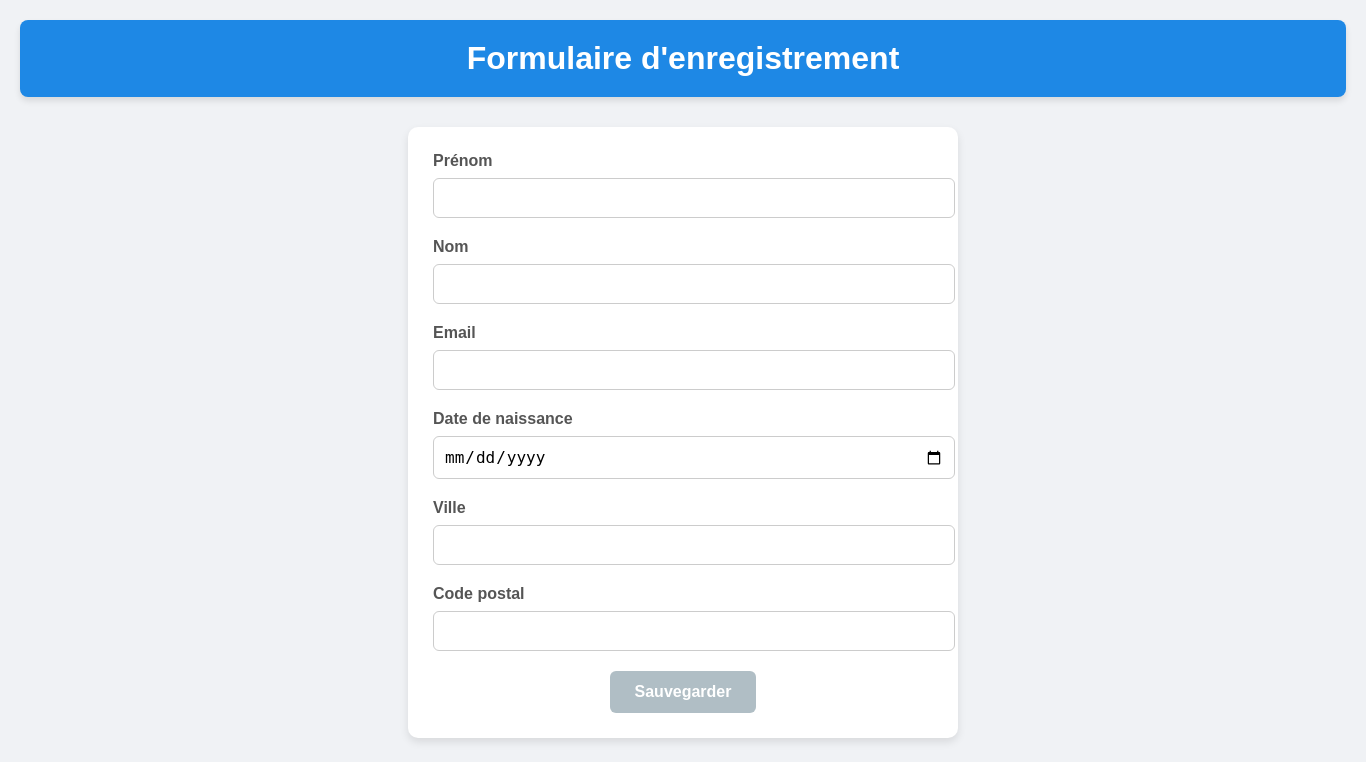
it: Error tests › Validation des champs › affiche une erreur quand le nom est invalide
In the field with test id "input-lastName": [694, 284] box top-left (433, 264), bottom-right (955, 304), type "123"
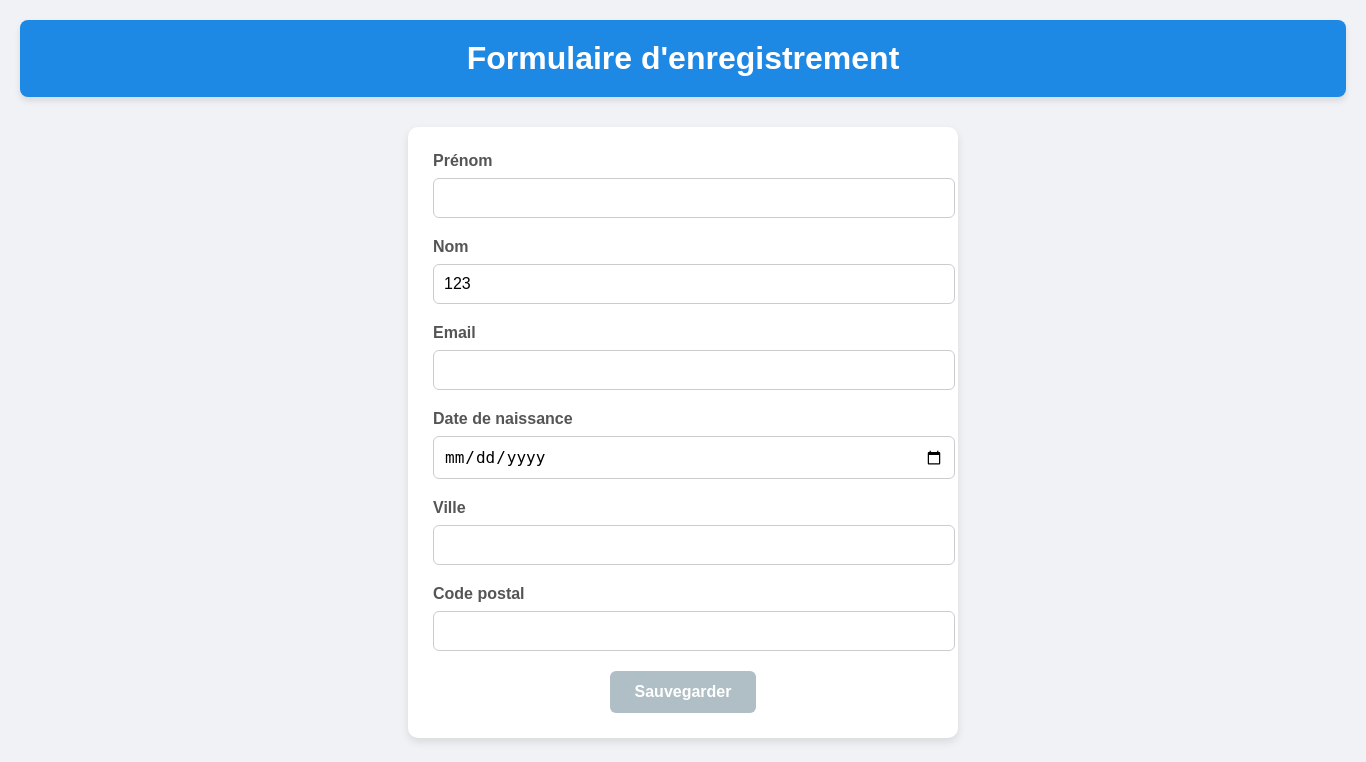
Submit the form with test id "registration-form", box top-left (408, 127), bottom-right (958, 738)
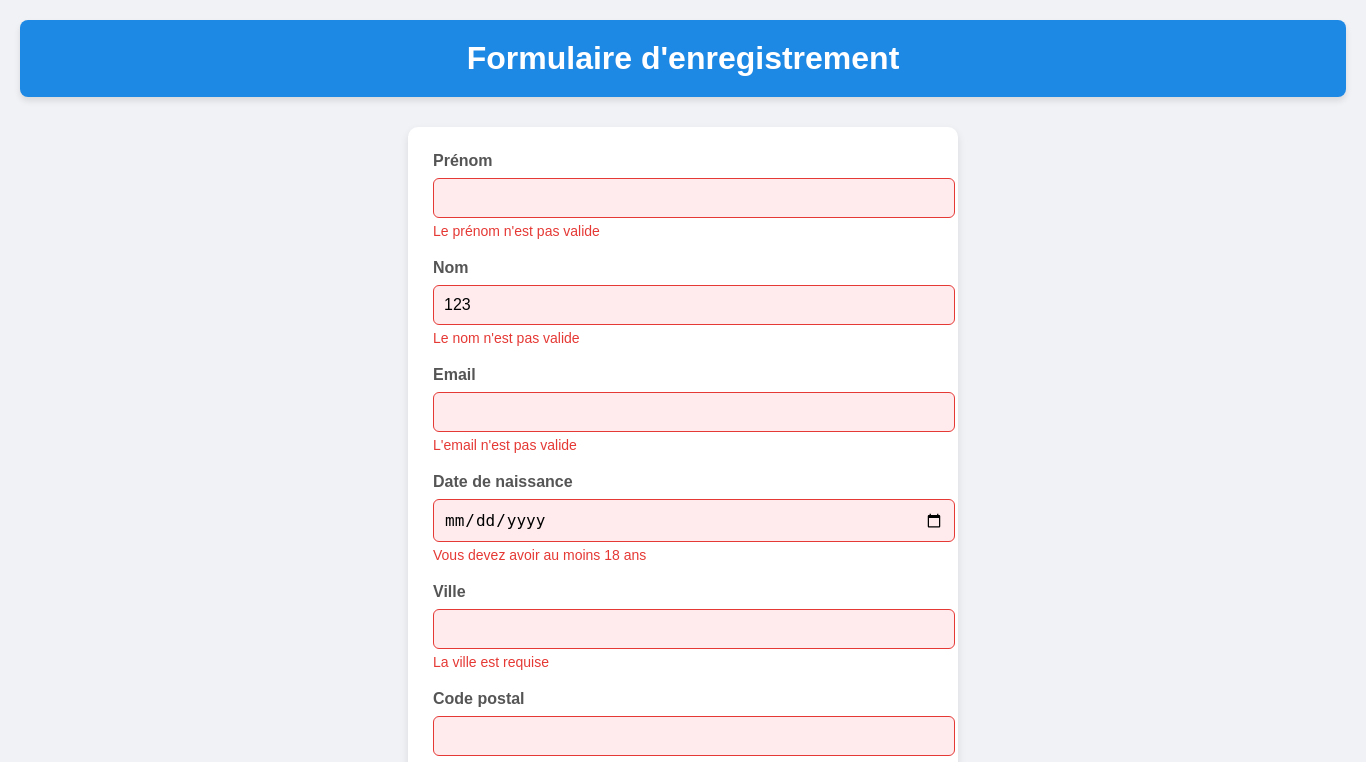
Result: the text "Le nom n'est pas valide" is shown at top-left (433, 330), bottom-right (580, 346)
